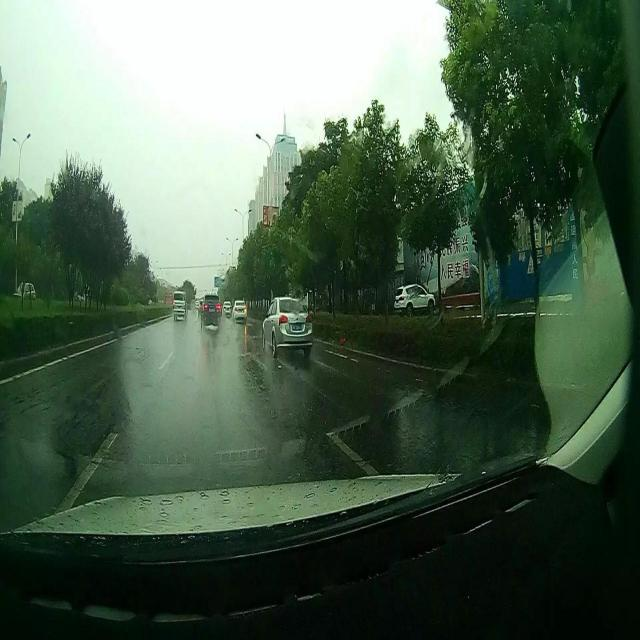car: (261, 298, 312, 357), (200, 292, 223, 332), (172, 292, 188, 322), (232, 299, 247, 323), (222, 296, 230, 316)
